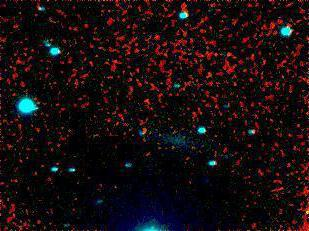star: (293, 191, 309, 221)
